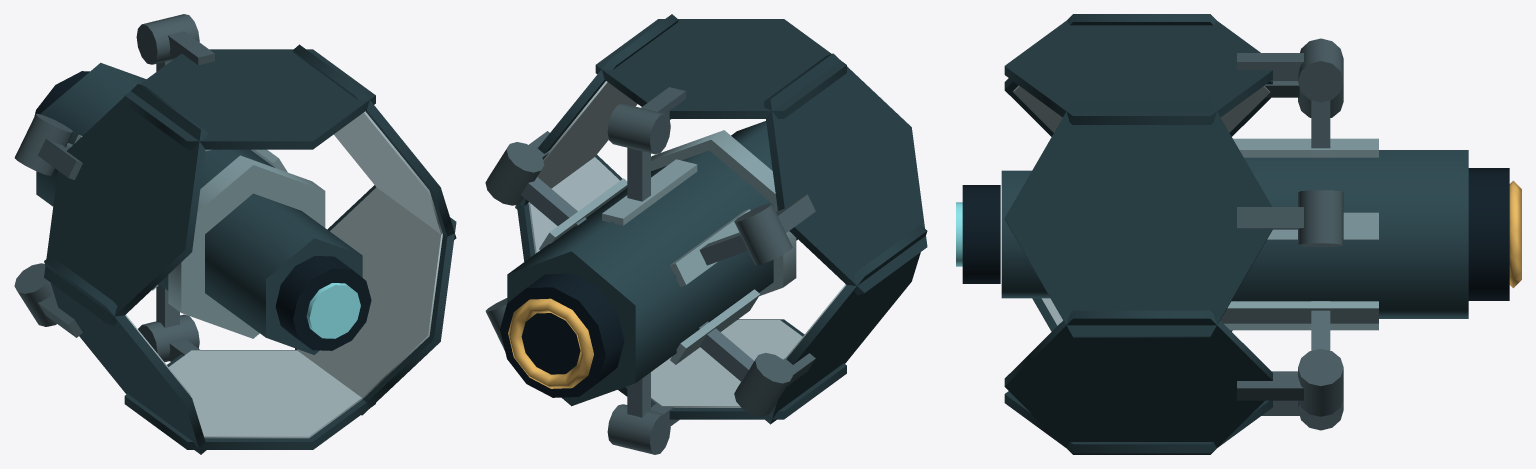
Rendered from arc01_satellite_d0_lod1.glb.
3 views of the same model, side by side, from view 1: azimuth 30°, elevation 25°; view 2: azimuth 150°, elevation 25°; view 3: azimuth 270°, elevation 25° (orthographic). The views are drawn at different scales.
Parts seen in each view (by area): view 1: SATELLITE_BUS, PETAL_2_MESH, PETAL_1_MESH, PETAL_4_MESH, PETAL_5_MESH, PETAL_3_MESH, PETAL_6_MESH; view 2: SATELLITE_BUS, PETAL_2_MESH, PETAL_1_MESH, PETAL_4_MESH, PETAL_3_MESH, PETAL_6_MESH, PETAL_5_MESH; view 3: SATELLITE_BUS, PETAL_6_MESH, PETAL_5_MESH, PETAL_1_MESH, PETAL_2_MESH, PETAL_4_MESH.
Part boxes in pixels (bbox=[...]): SATELLITE_BUS: bbox=[34, 60, 371, 354]; PETAL_2_MESH: bbox=[14, 84, 207, 325]; PETAL_1_MESH: bbox=[124, 14, 375, 149]; PETAL_4_MESH: bbox=[124, 314, 375, 449]; PETAL_5_MESH: bbox=[295, 185, 456, 415]; PETAL_3_MESH: bbox=[14, 255, 206, 454]; PETAL_6_MESH: bbox=[292, 44, 456, 239]; SATELLITE_BUS: bbox=[500, 121, 797, 417]; PETAL_2_MESH: bbox=[734, 53, 927, 295]; PETAL_1_MESH: bbox=[595, 19, 846, 154]; PETAL_4_MESH: bbox=[607, 319, 846, 454]; PETAL_3_MESH: bbox=[734, 225, 927, 424]; PETAL_6_MESH: bbox=[485, 14, 678, 209]; PETAL_5_MESH: bbox=[485, 155, 622, 350]; SATELLITE_BUS: bbox=[956, 100, 1521, 350]; PETAL_6_MESH: bbox=[1004, 100, 1343, 337]; PETAL_5_MESH: bbox=[1004, 310, 1343, 454]; PETAL_1_MESH: bbox=[1004, 21, 1343, 124]; PETAL_2_MESH: bbox=[1004, 14, 1343, 136]; PETAL_4_MESH: bbox=[1004, 391, 1343, 453].
Size of what is drawn, in the model's own units: 2.31 by 2.14 by 2.97.
